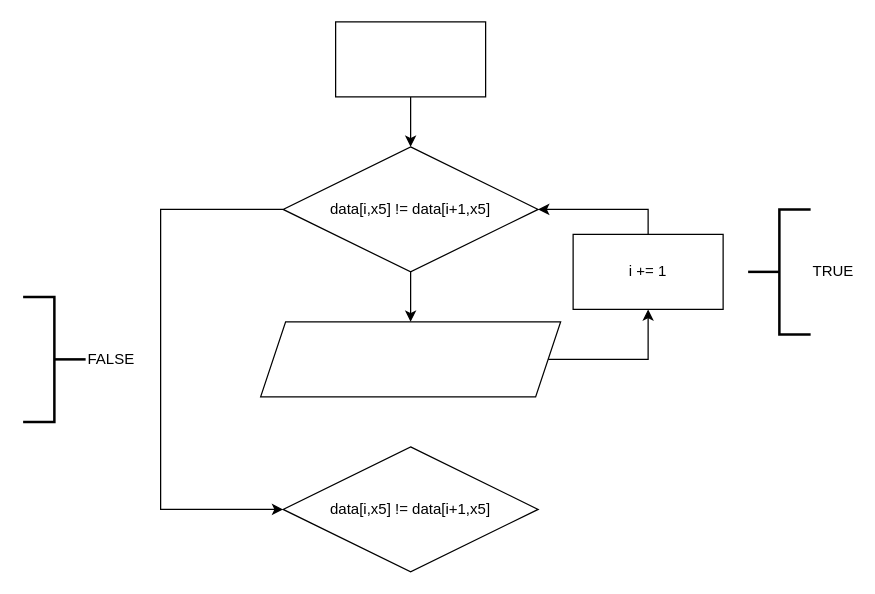
Some shapes in this 875 by 594 pixel diagram are drawn without their labels. The shapes that lost their labels are listed below. From the top down, each one's centre as x and y in pixels, then its label:
At (x=410, y=59): "i = 1 data2[1,] <- data[1,]".
At (x=410, y=359): "data2[i+1,] <- data[i,] i += 1".
